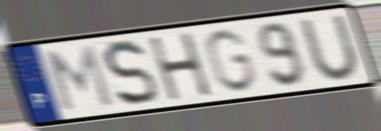9: (255, 20, 310, 89)
G: (202, 26, 259, 94)
H: (145, 30, 216, 104)
M: (42, 43, 116, 114)
S: (100, 37, 162, 109)
U: (296, 12, 365, 82)
